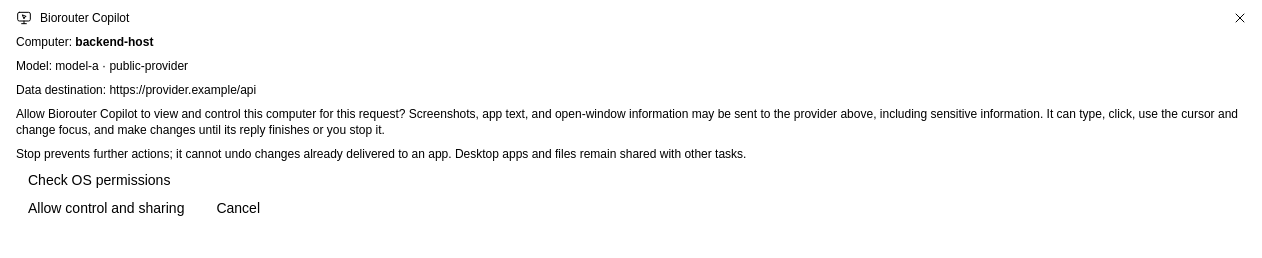
Scenario: CopilotControl › keeps acknowledgement available after a refused or stale challenge
Click the button "Allow control and sharing" at coordinates (106, 208), box [16, 198, 196, 218]
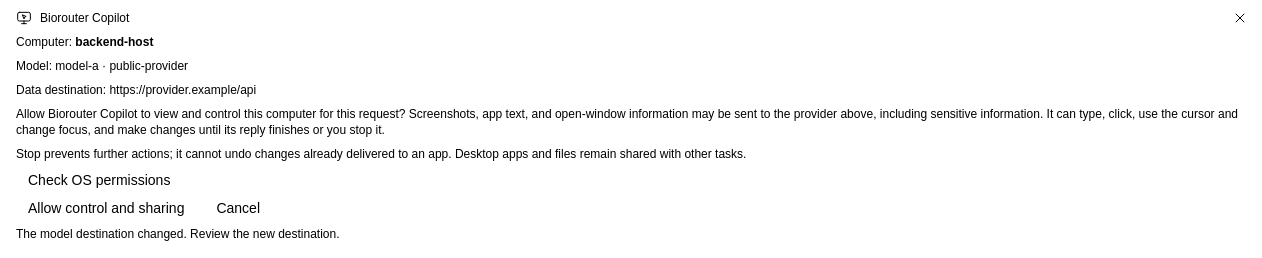
Result: the message "The model destination changed. Review the new destination." is shown at [16, 227, 340, 241]
